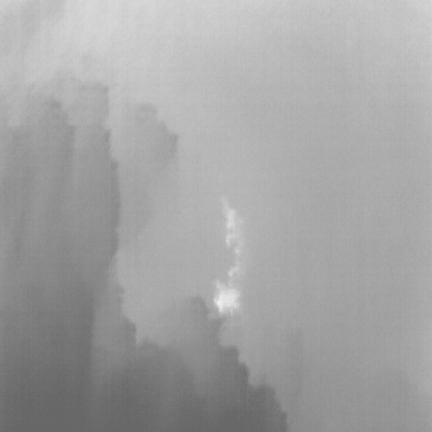flukeprints: (223, 198, 241, 277), (215, 281, 239, 314)
